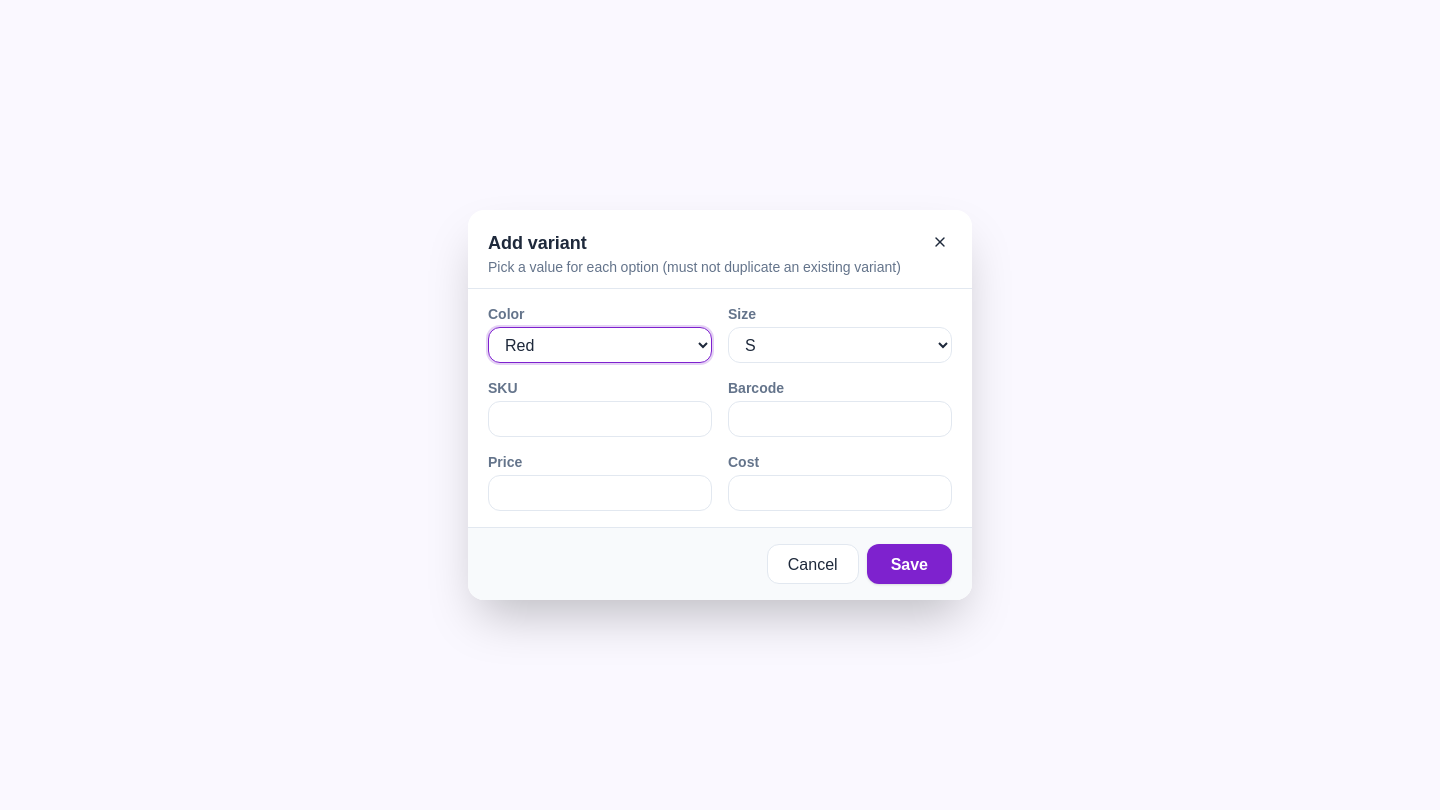
Test case: AddVariantDialog › shows the real schema issues (not a generic message), focuses the alert and does not post
Select "M" in the dropdown labelled "Size" at (840, 345), box [728, 327, 952, 363]
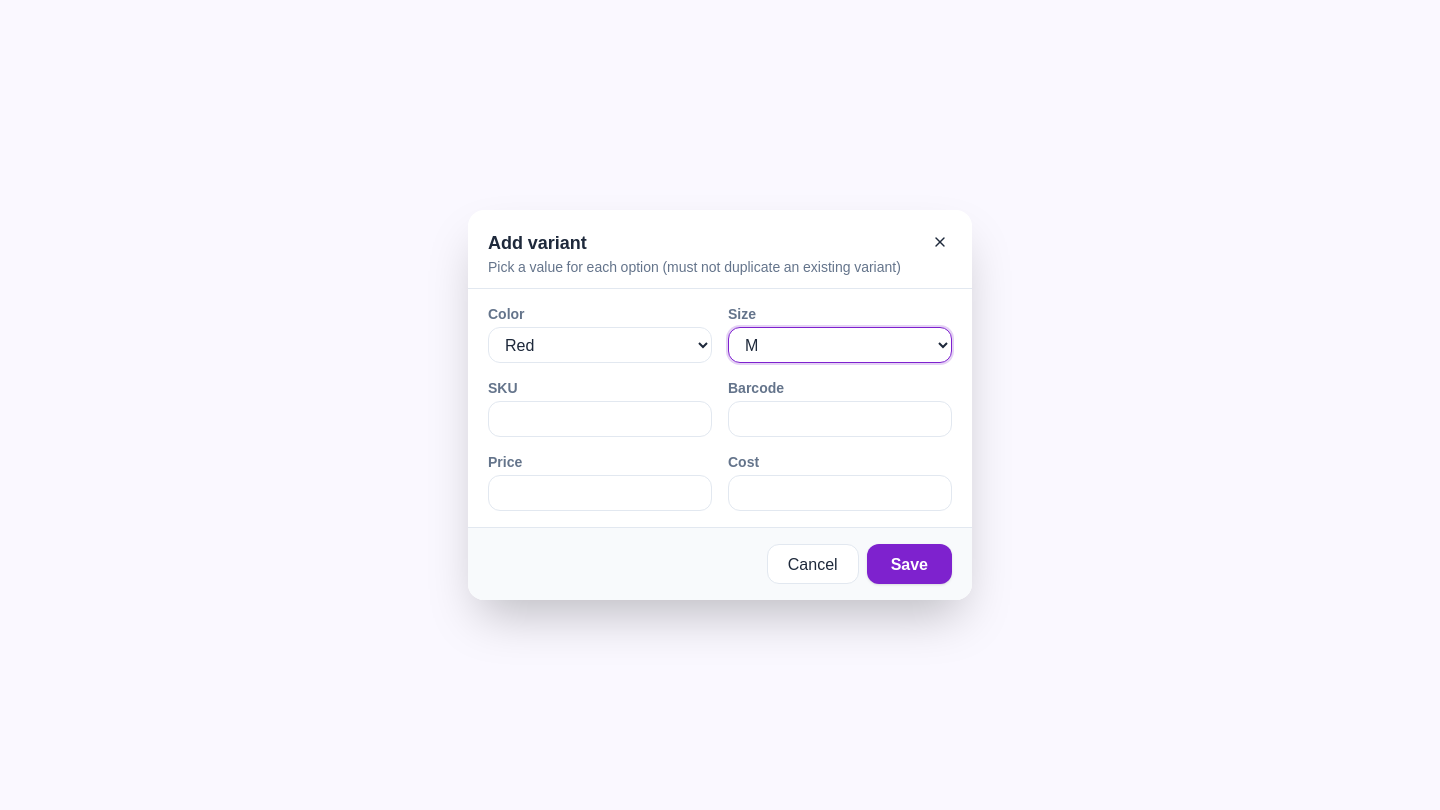
Type "12.345" into the field labelled "Price" at (600, 493), box [488, 475, 712, 511]
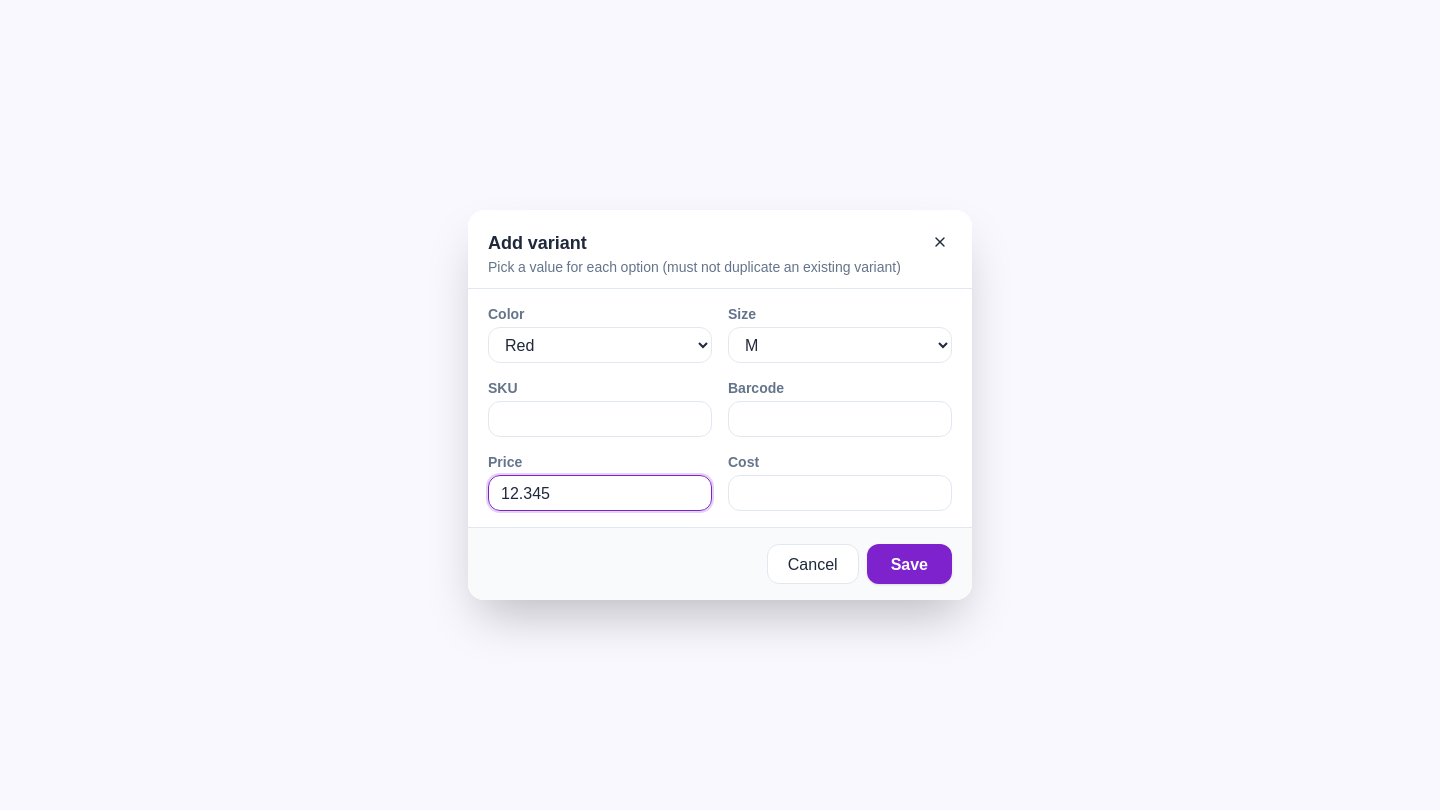
Click the button "Save" at (909, 564), box [867, 544, 952, 584]
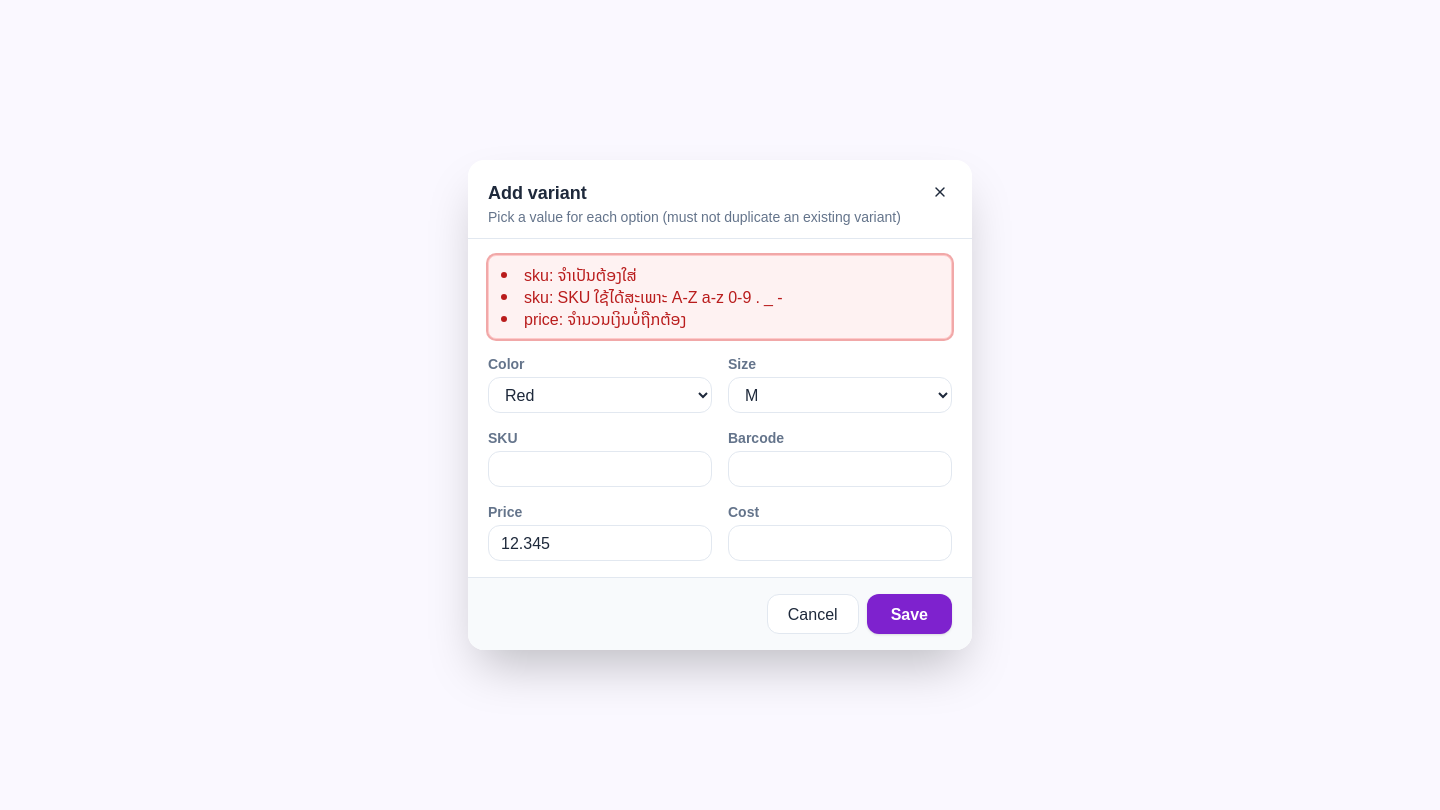
Expected: the message shows "sku:", [524, 262, 637, 288]
Expected: the message shows "price: ຈຳນວນເງິນບໍ່ຖືກຕ້ອງ", [524, 306, 686, 332]
